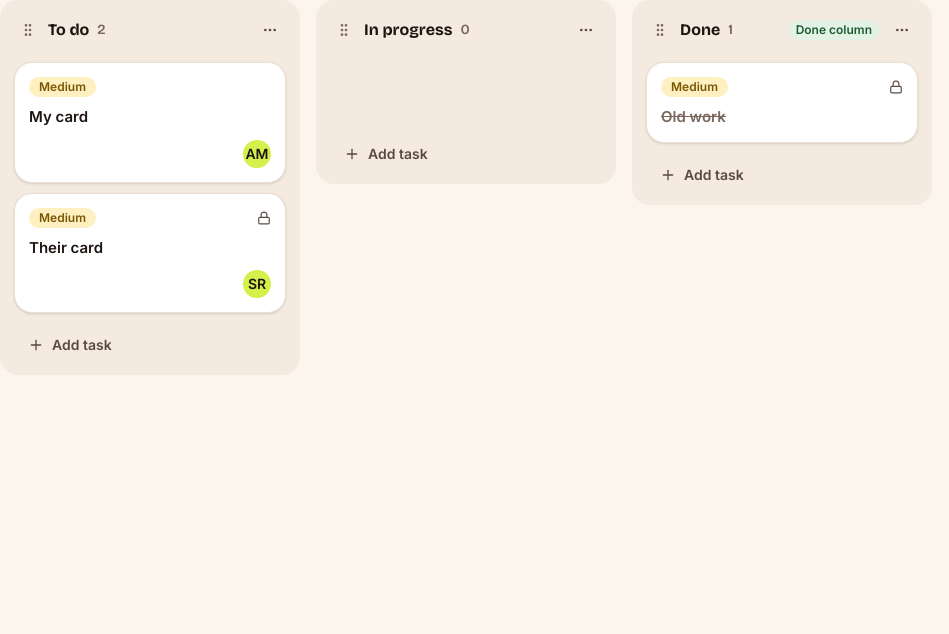
BoardColumns: who may move which card › a member's quick add asks for the description and an optional due date that can't change later
Click the button with aria-label "Add a task to To do" at (82, 345), box top-left (12, 327), bottom-right (288, 363)
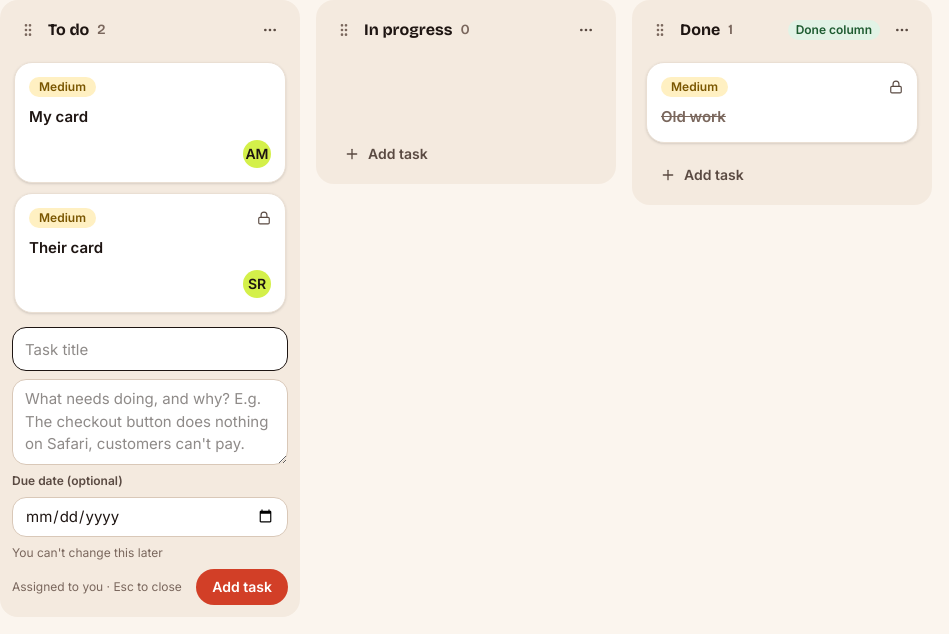
Now the text box with placeholder "What needs doing, and why?" is shown, box top-left (12, 379), bottom-right (288, 465)
